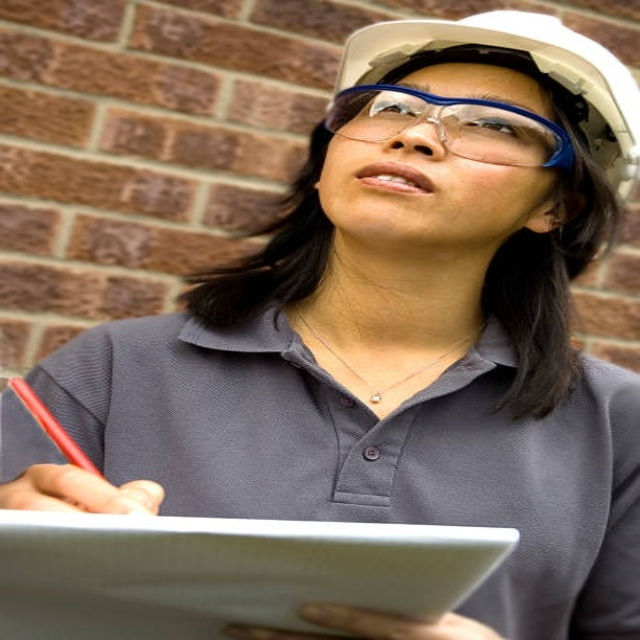Gafas: (320, 86, 575, 171)
Sin_guantes: (234, 600, 506, 640), (6, 462, 165, 516)
Sin_mascara: (346, 157, 445, 218)
